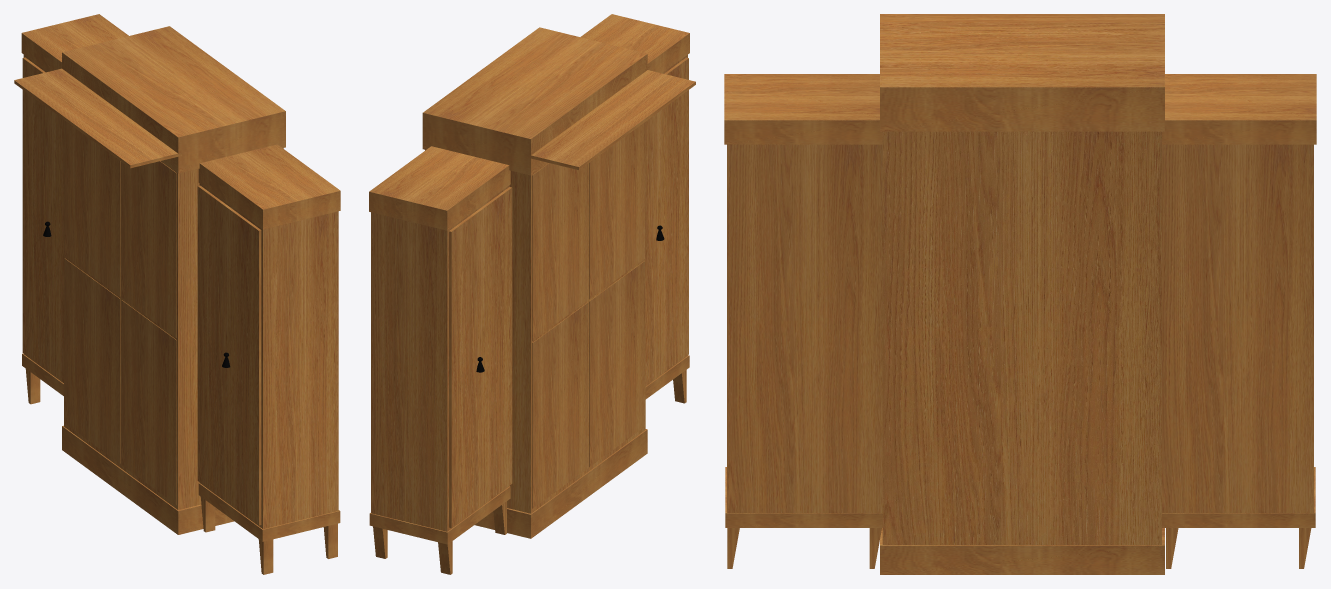
The model's file is Bedroom1Cabinet.obj.
3 renders of one model, left to right at view 1: azimuth 30°, elevation 25°; view 2: azimuth 150°, elevation 25°; view 3: azimuth 270°, elevation 25°, orthographic. The views are drawn at different scales.
Visible parts, largest first — view 1: Box04, Box11, Box02, Box15, Box10, Box09, Box01, Box08, Box07, Box05, Box12, Box03 (+5 smaller); view 2: Box14, Box15, Box02, Box11, Box10, Box09, Box07, Box01, Box08, Box16, Box12, Box03 (+4 smaller); view 3: Box01, Box04, Box14, Box02, Box05, Box16, Box03, Box12, Box06, Box13.
Boxes of the visible parts, x1=… form: Box04: x1=199, y1=183, x2=338, y2=529; Box11: x1=197, y1=185, x2=261, y2=525; Box02: x1=62, y1=26, x2=285, y2=173; Box15: x1=22, y1=57, x2=63, y2=382; Box10: x1=64, y1=258, x2=120, y2=463; Box09: x1=121, y1=300, x2=176, y2=504; Box01: x1=64, y1=120, x2=283, y2=509; Box08: x1=121, y1=161, x2=176, y2=337; Box07: x1=64, y1=120, x2=120, y2=296; Box05: x1=198, y1=144, x2=340, y2=229; Box12: x1=14, y1=68, x2=181, y2=168; Box03: x1=62, y1=425, x2=233, y2=534; Box14: x1=371, y1=185, x2=509, y2=531; Box15: x1=449, y1=187, x2=512, y2=527; Box02: x1=422, y1=27, x2=647, y2=175; Box11: x1=645, y1=57, x2=688, y2=385; Box10: x1=532, y1=302, x2=588, y2=508; Box09: x1=589, y1=261, x2=644, y2=466; Box07: x1=532, y1=163, x2=588, y2=340; Box01: x1=425, y1=122, x2=645, y2=513; Box08: x1=589, y1=122, x2=644, y2=299; Box16: x1=369, y1=146, x2=510, y2=230; Box12: x1=527, y1=70, x2=695, y2=169; Box03: x1=475, y1=429, x2=647, y2=538; Box01: x1=882, y1=131, x2=1161, y2=544; Box04: x1=727, y1=144, x2=882, y2=512; Box14: x1=1162, y1=144, x2=1313, y2=512; Box02: x1=880, y1=22, x2=1164, y2=131; Box05: x1=724, y1=74, x2=882, y2=144; Box16: x1=1162, y1=74, x2=1316, y2=144; Box03: x1=880, y1=528, x2=1164, y2=574; Box12: x1=880, y1=14, x2=1164, y2=22; Box06: x1=725, y1=467, x2=882, y2=527; Box13: x1=1162, y1=467, x2=1315, y2=527.
Size of the model in its own units: 0.1182 by 0.2889 by 0.318.
2 materials, 1 textured.
